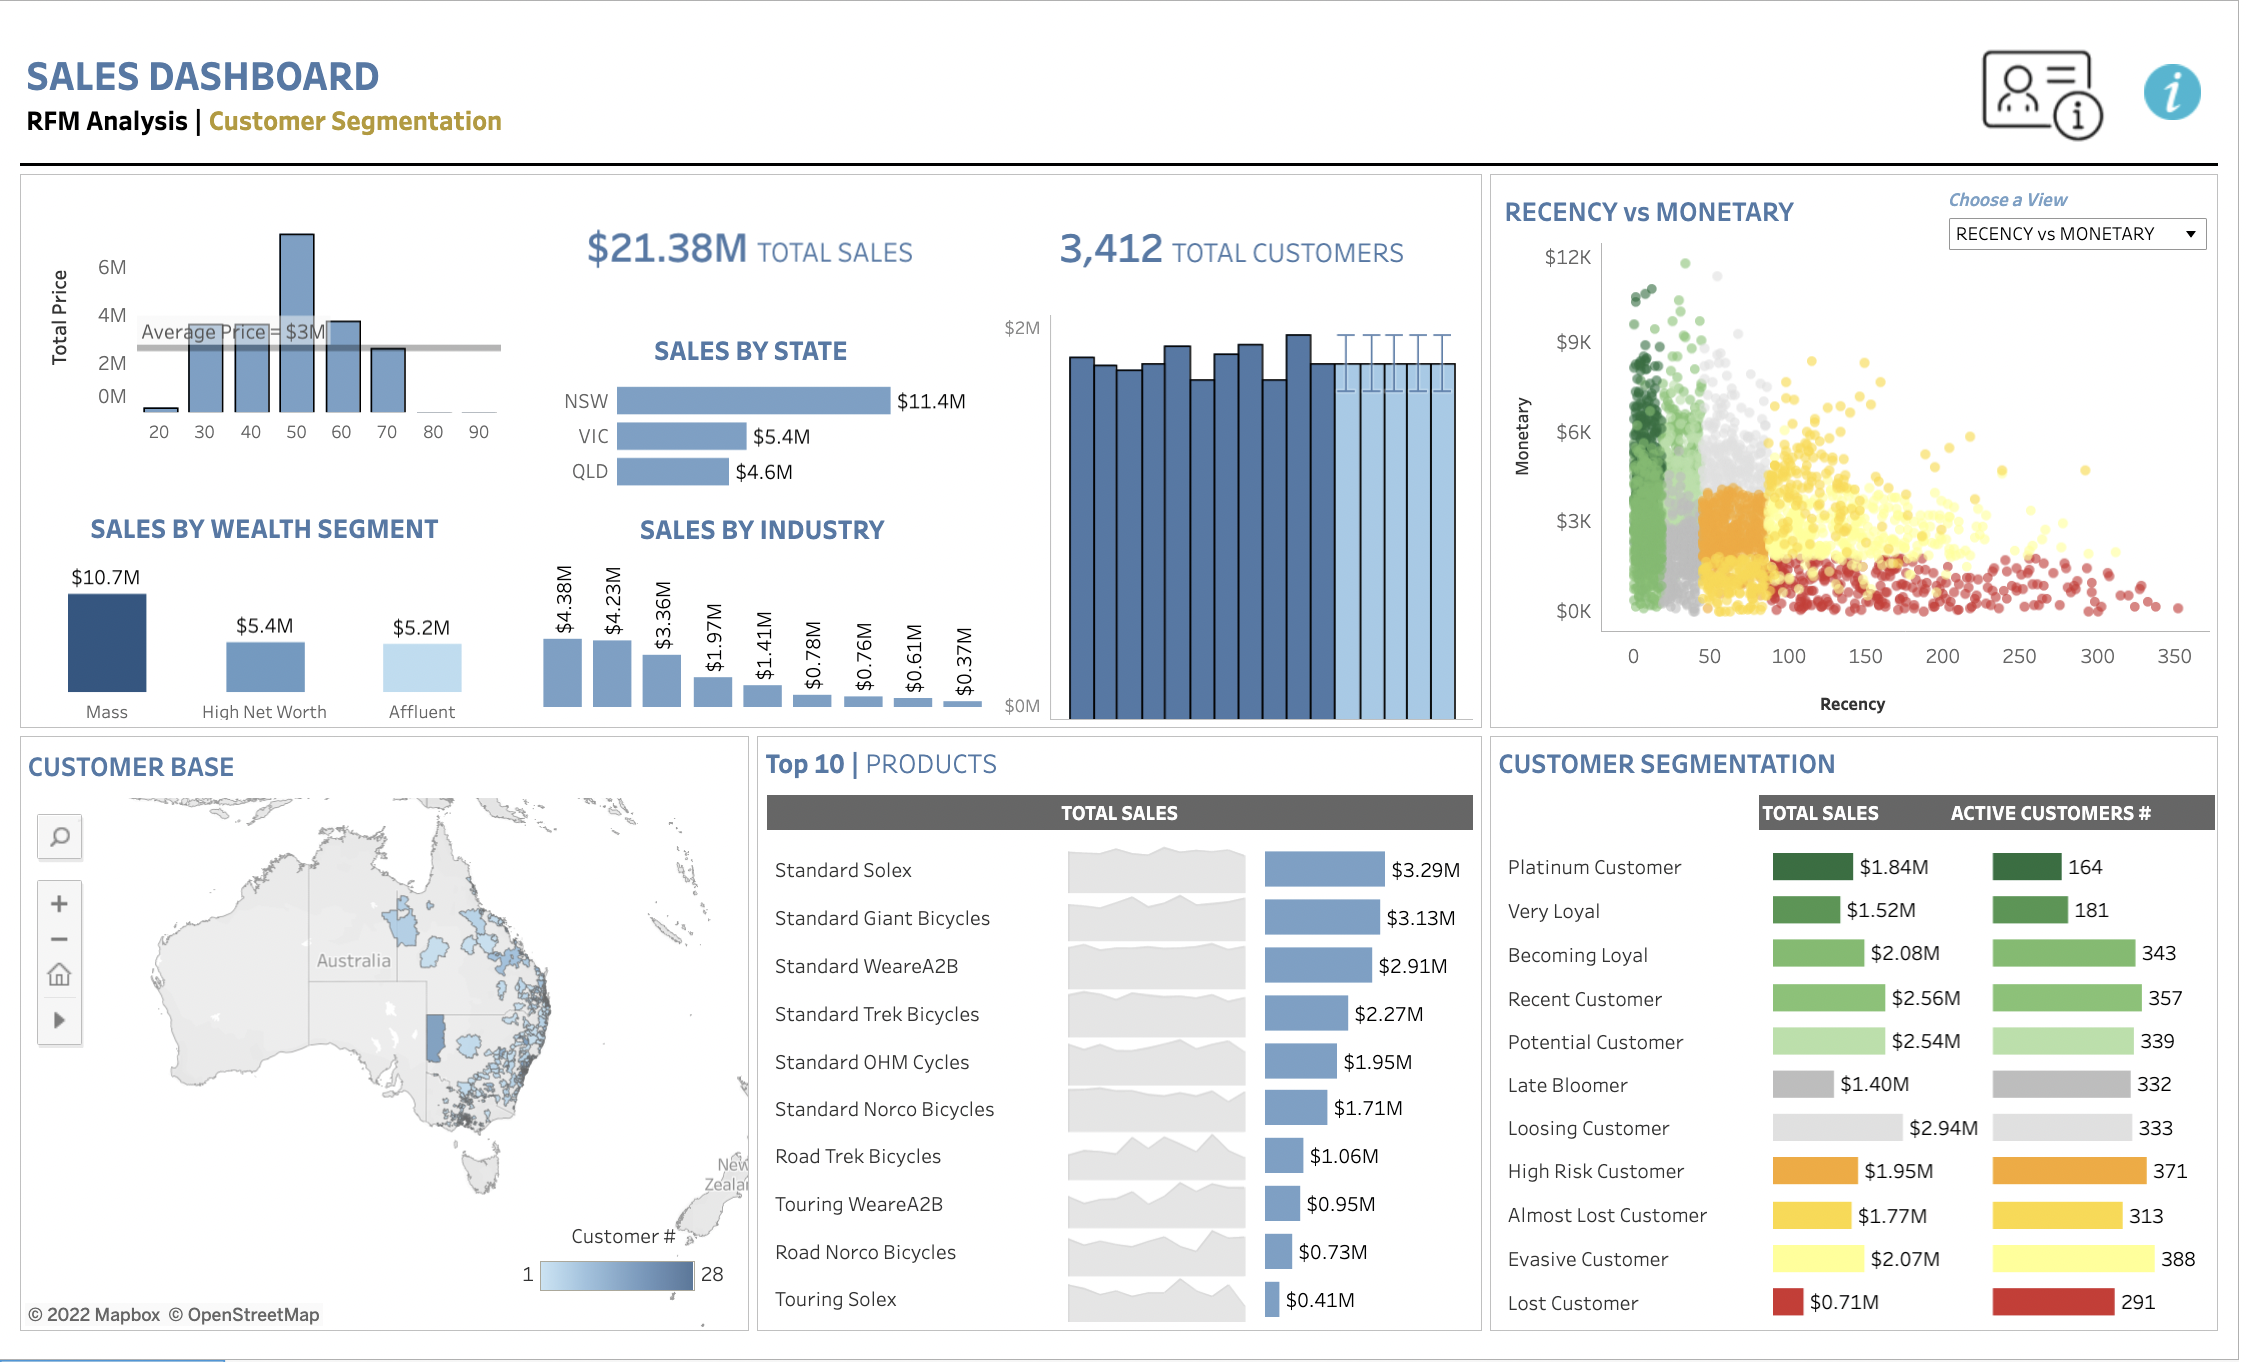

The dashboard page shown, as its layout file describes it:
{"tool":"tableau","page":{"name":"RFM Dashboard","canvas":[1400,850],"ordinal":1},"visuals":[{"type":"text","box":[13,13,1206,89]},{"type":"worksheet","title":"Customer Info Btn","mark":"Shape","box":[1219,13,110,89]},{"type":"worksheet","title":"RFM i","mark":"Shape","box":[1329,13,58,89]},{"type":"blank","box":[13,102,1374,2]},{"type":"worksheet","title":"Age Distribution","mark":"Automatic","rows":["List Price (copy)_1112670615897391104"],"cols":["Calculation_637259375707873280"],"box":[14,110,304,172]},{"type":"worksheet","title":"Total Sales","mark":"Automatic","box":[318,110,304,87]},{"type":"worksheet","title":"Total Customers","mark":"Automatic","box":[622,110,299,87]},{"type":"worksheet","title":"RECENCY vs MONETARY","mark":"Automatic","rows":["monetary"],"cols":["Calculation_1011902575225446400"],"box":[933,110,453,314]},{"type":"parameter","param":"[Parameters].[Parameter 4]","box":[1218,117,163,45]},{"type":"worksheet","title":"State Revenue","mark":"Automatic","rows":["State (copy)_637259375713636356"],"cols":["list_price"],"box":[318,197,304,112]},{"type":"worksheet","title":"Total profit by month ","mark":"Bar","rows":["list_price"],"cols":["transaction_date"],"box":[622,197,299,253]},{"type":"worksheet","title":"Wealth Seg Distribution","mark":"Automatic","rows":["list_price"],"cols":["wealth_segment"],"box":[14,282,304,172]},{"type":"worksheet","title":"Job Industry Distribution","mark":"Automatic","rows":["list_price"],"cols":["job_industry_category"],"box":[318,309,304,145]},{"type":"worksheet","title":"Sheet 19","mark":"Automatic","box":[933,424,453,30]},{"type":"worksheet","title":"Map","mark":"Multipolygon","box":[13,458,458,374]},{"type":"text","box":[475,461,451,31]},{"type":"text","box":[933,461,453,30]},{"type":"blank","box":[933,496,167,22]},{"type":"text","box":[1100,496,115,22]},{"type":"text","box":[1215,496,170,22]},{"type":"text","box":[480,497,441,22]},{"type":"worksheet","title":"Cust Seg RFM Bar Chart","mark":"Automatic","rows":["detail_cust_title"],"cols":["list_price","Calculation_968836899342495746"],"box":[933,523,453,308]},{"type":"worksheet","title":"Top products by month10 ","mark":"Area","rows":["Calculation_1010213722344501248","list_price"],"cols":["transaction_date"],"box":[475,524,312,306.9]},{"type":"worksheet","title":"Top 10 Products","mark":"Automatic","rows":["Calculation_1010213722344501248"],"cols":["list_price"],"box":[787,524,139,306.9]},{"type":"legend","title":"Map","param":"[federated.19k9igp16a8ij218d8u2w1s5ym2z].[usr:Calculation_968836899342495746:qk]","box":[323,764,135,51]}]}

Visuals, with their boxes in screenshot pixels (x1, y1, x2, y2), scaled from the page's 1400x850 canvas onto the 2246x1362 screenshot:
text: 21/21/1956/163
"Customer Info Btn" worksheet (Shape marks): 1956/21/2132/163
"RFM i" worksheet (Shape marks): 2132/21/2225/163
blank: 21/163/2225/167
"Age Distribution" worksheet: 22/176/510/452
"Total Sales" worksheet: 510/176/998/316
"Total Customers" worksheet: 998/176/1478/316
"RECENCY vs MONETARY" worksheet: 1497/176/2224/679
parameter: 1954/187/2216/260
"State Revenue" worksheet: 510/316/998/495
"Total profit by month " worksheet (Bar marks): 998/316/1478/721
"Wealth Seg Distribution" worksheet: 22/452/510/727
"Job Industry Distribution" worksheet: 510/495/998/727
"Sheet 19" worksheet: 1497/679/2224/727
"Map" worksheet (Multipolygon marks): 21/734/756/1333
text: 762/739/1486/788
text: 1497/739/2224/787
blank: 1497/795/1765/830
text: 1765/795/1949/830
text: 1949/795/2222/830
text: 770/796/1478/832
"Cust Seg RFM Bar Chart" worksheet: 1497/838/2224/1332
"Top products by month10 " worksheet (Area marks): 762/840/1263/1331
"Top 10 Products" worksheet: 1263/840/1486/1331
"Map" legend: 518/1224/735/1306
